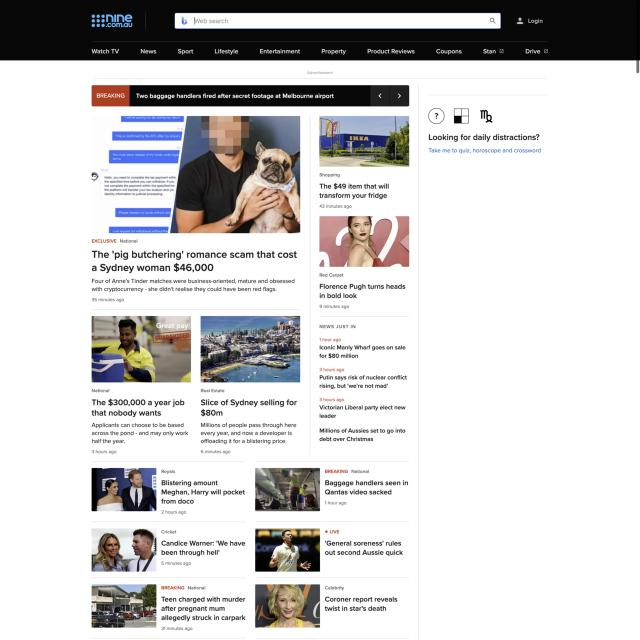input: (200, 315, 301, 383), (173, 11, 503, 31), (92, 316, 191, 382), (320, 216, 410, 267), (91, 467, 157, 512), (255, 528, 320, 572), (255, 584, 320, 628)
logo: (88, 12, 137, 30)
navigation: (88, 44, 554, 58)
